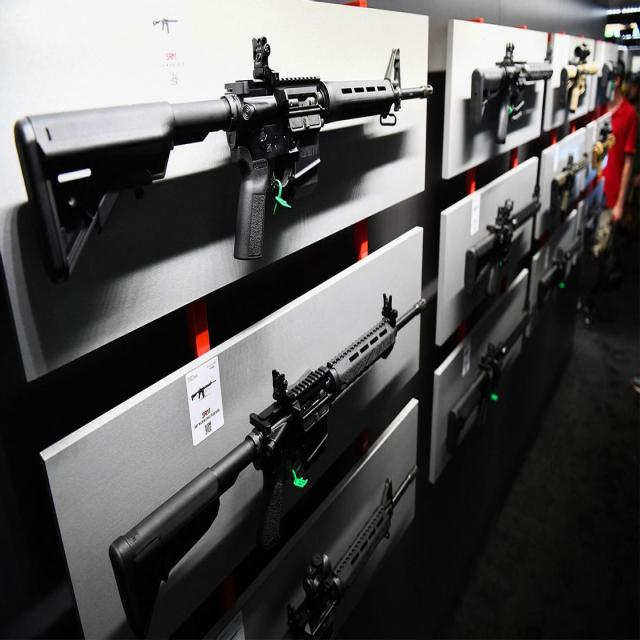Rifle: (109, 299, 426, 640), (13, 38, 434, 286), (470, 43, 554, 145), (465, 199, 539, 298)
